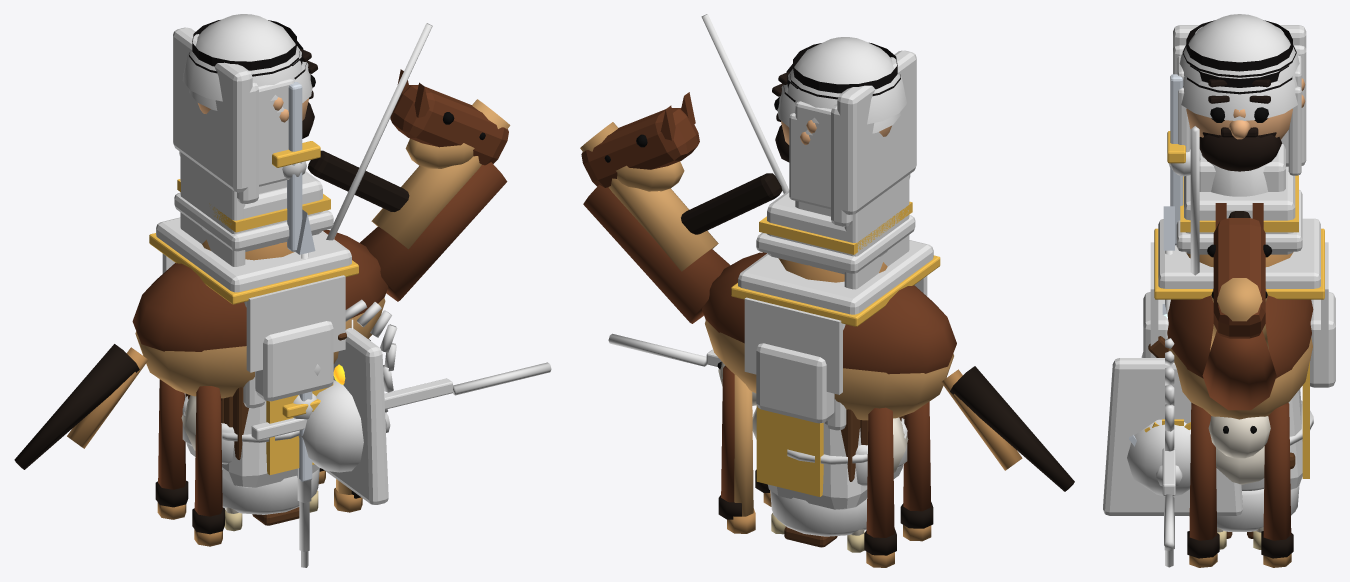
File: units.glb
3 renders of one model, left to right at view 1: azimuth 30°, elevation 25°; view 2: azimuth 150°, elevation 25°; view 3: azimuth 270°, elevation 25°, orthographic.
Parts seen in each view (by area): view 1: u_h__body, u_c__body, u_camel__body, u_g__body, u_p__body, sph.016, box.048, cyl.023, cyl.021, box.049, box.039, u_w__body (+3 smaller); view 2: u_h__body, u_c__body, u_p__body, u_camel__body, box.048, cyl.021, cyl.023, cyl.025, u_w__body, cyl.016, cyl.002, u_goat__body (+3 smaller); view 3: u_h__body, u_c__body, u_g__body, u_camel__body, u_goat__body, cyl.016, cyl.019, sph.016, u_p__body, box.049, u_w__body, box.039 (+6 smaller).
Boxes of the visible parts, box(x1,y1,x2,y2) form: u_h__body: box(14, 14, 508, 469); u_c__body: box(67, 23, 510, 448); u_camel__body: box(177, 132, 485, 401); u_g__body: box(323, 328, 388, 504); u_p__body: box(186, 383, 333, 514); sph.016: box(298, 380, 386, 472); box.048: box(180, 152, 245, 266); cyl.023: box(194, 386, 222, 516); cyl.021: box(158, 379, 185, 489); box.049: box(287, 82, 302, 251); box.039: box(251, 378, 452, 440); u_w__body: box(183, 301, 345, 514); u_h__body: box(581, 37, 1074, 491); u_c__body: box(580, 14, 1022, 470); u_p__body: box(756, 405, 903, 536); u_camel__body: box(606, 155, 912, 423); box.048: box(844, 175, 909, 289); cyl.021: box(866, 407, 894, 537); cyl.023: box(903, 401, 930, 511); cyl.025: box(734, 375, 753, 516); u_w__body: box(771, 323, 906, 535); cyl.016: box(721, 365, 734, 502); cyl.002: box(608, 333, 707, 366); u_goat__body: box(717, 361, 908, 472); u_h__body: box(1150, 14, 1328, 410); u_c__body: box(1167, 45, 1312, 419); u_g__body: box(1103, 358, 1242, 515); u_camel__body: box(1143, 166, 1335, 387); u_goat__body: box(1208, 416, 1270, 484); cyl.016: box(1263, 402, 1291, 540); cyl.019: box(1189, 402, 1217, 540); sph.016: box(1127, 419, 1190, 495); u_p__body: box(1189, 361, 1309, 531); box.049: box(1170, 74, 1183, 245); u_w__body: box(1158, 336, 1313, 531); box.039: box(1162, 447, 1175, 495).
Bounding box in the file's own units: 1.57 × 1.59 × 0.6289.
